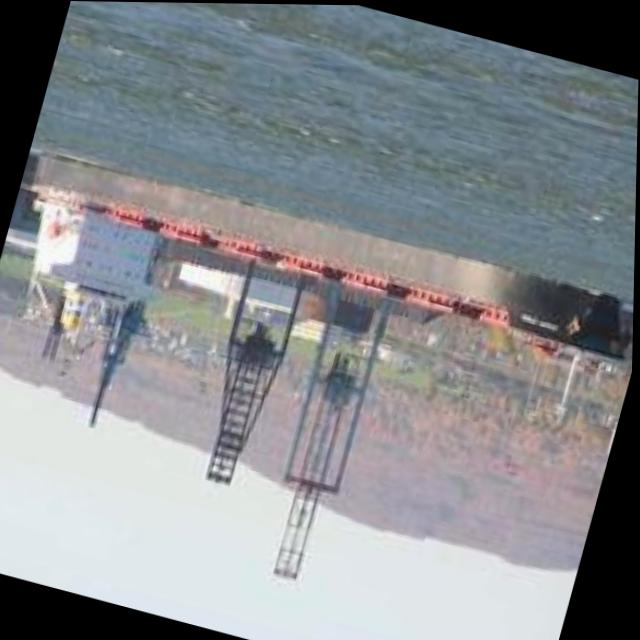ship2: (30, 149, 624, 371)
